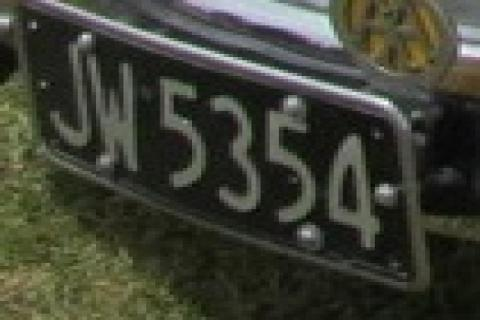LicensePlate: (18, 0, 429, 290)
